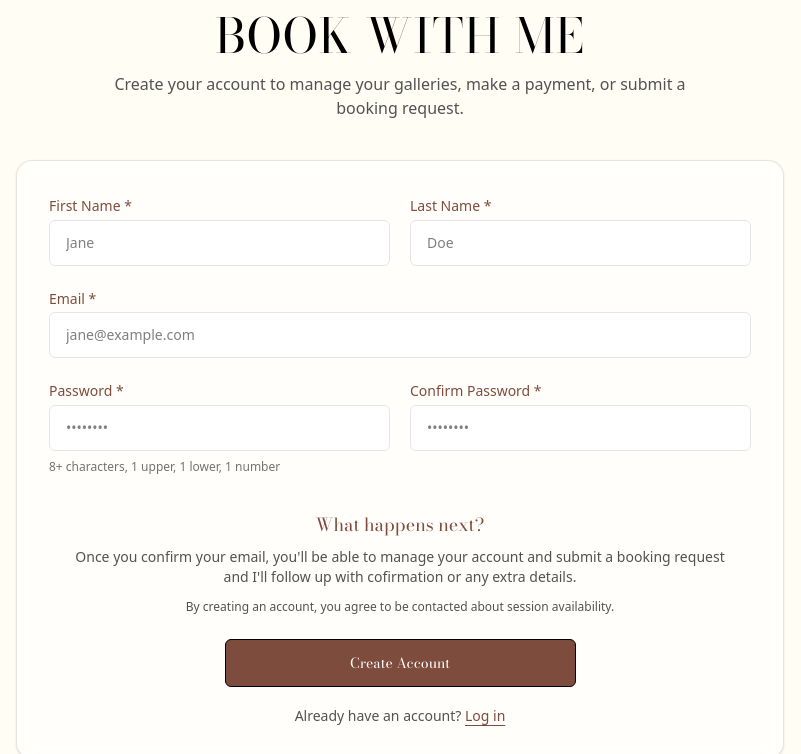
Test: SignUp Component › shows validation errors when submitting empty form
The image size is (801, 754).
Click the button "Create Account": click(400, 663) [224, 639, 576, 687]
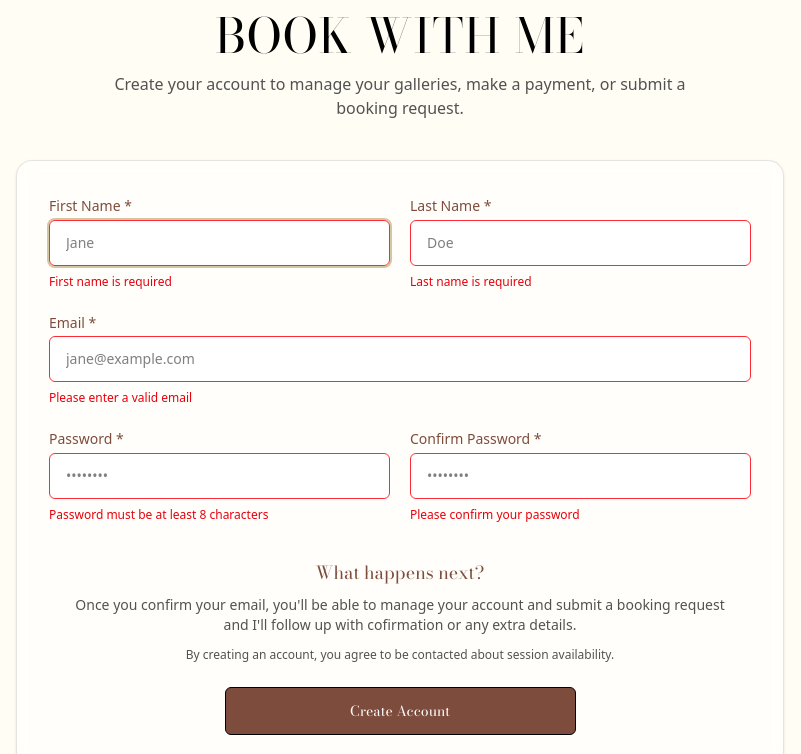
Now the text "First name is required" is shown, box [49, 273, 172, 290]
Now the text "Last name is required" is shown, box [410, 273, 532, 290]
Now the text "Please enter a valid email" is shown, box [49, 389, 192, 406]
